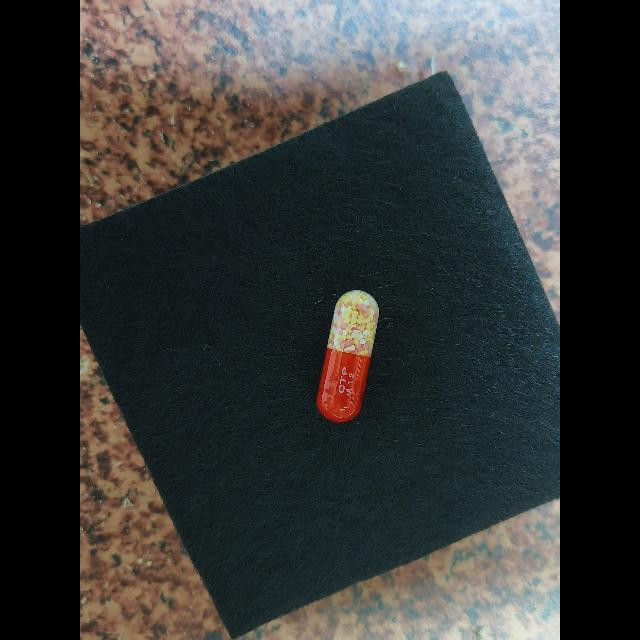Intact Capsule: (315, 290, 379, 423)
